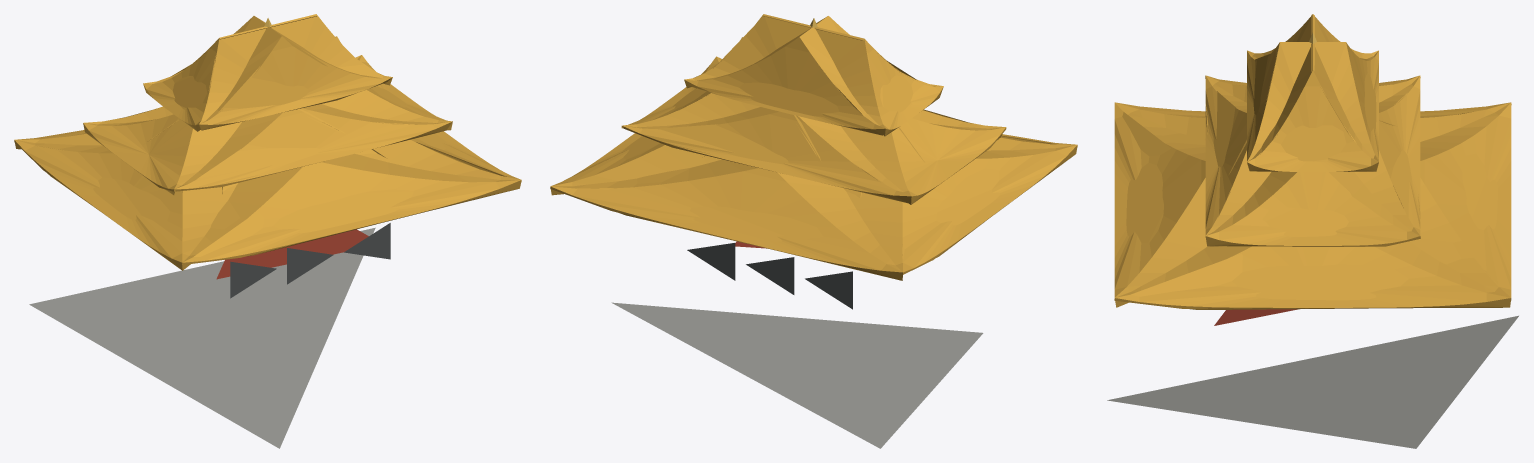
The model's file is jiaolou-far-bffa376a76.glb.
The picture shows the model from 3 angles, left to right: view 1: azimuth 30°, elevation 25°; view 2: azimuth 150°, elevation 25°; view 3: azimuth 270°, elevation 25°; orthographic projection. The views are drawn at different scales.
Visible parts, largest first — view 1: jiaolou coarse.001; view 2: jiaolou coarse.001; view 3: jiaolou coarse.001.
Part boxes in pixels (x1,y1,x2,y2): jiaolou coarse.001: (14,14,521,448); jiaolou coarse.001: (550,14,1077,448); jiaolou coarse.001: (1107,14,1518,448).
Bounding box in the file's own units: 28.02 × 27.5 × 25.
